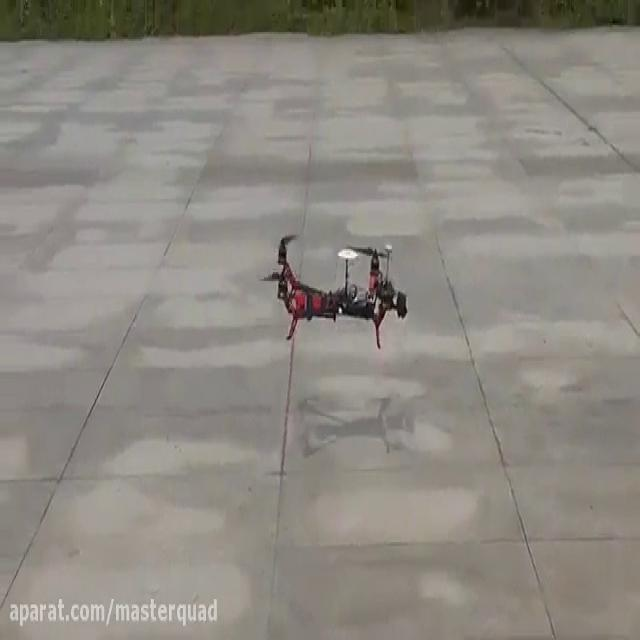drone: (254, 226, 415, 352)
